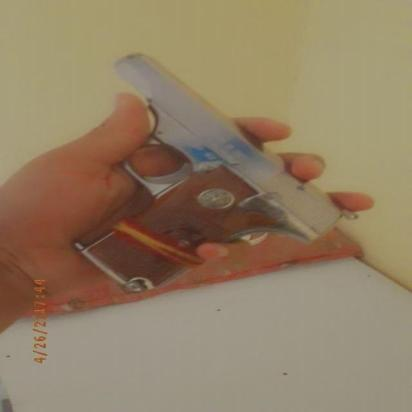Gun: (62, 48, 371, 298)
